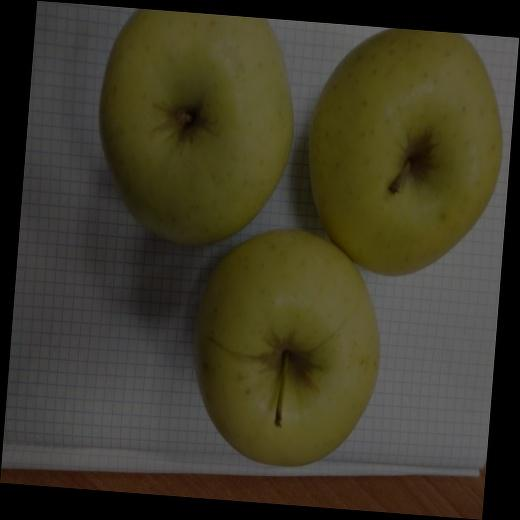green apple: (309, 30, 503, 278), (95, 13, 294, 245), (193, 225, 382, 468)
